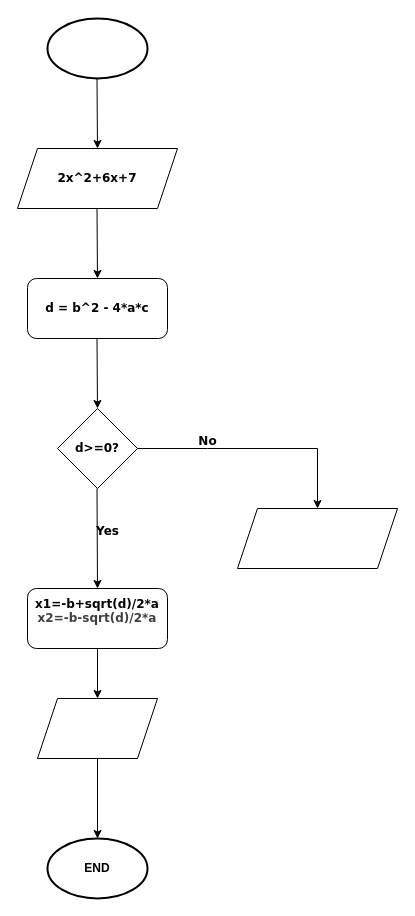
The diagram is 415 pixels wide and 916 high, and some of its shapes have lost their labels. Here are the shapes that lost their labels. From the top down, the box of each, then its label:
(46, 17, 148, 79): START
(236, 508, 398, 568): print("complex Roots")
(36, 698, 158, 758): print(x1,x2)
